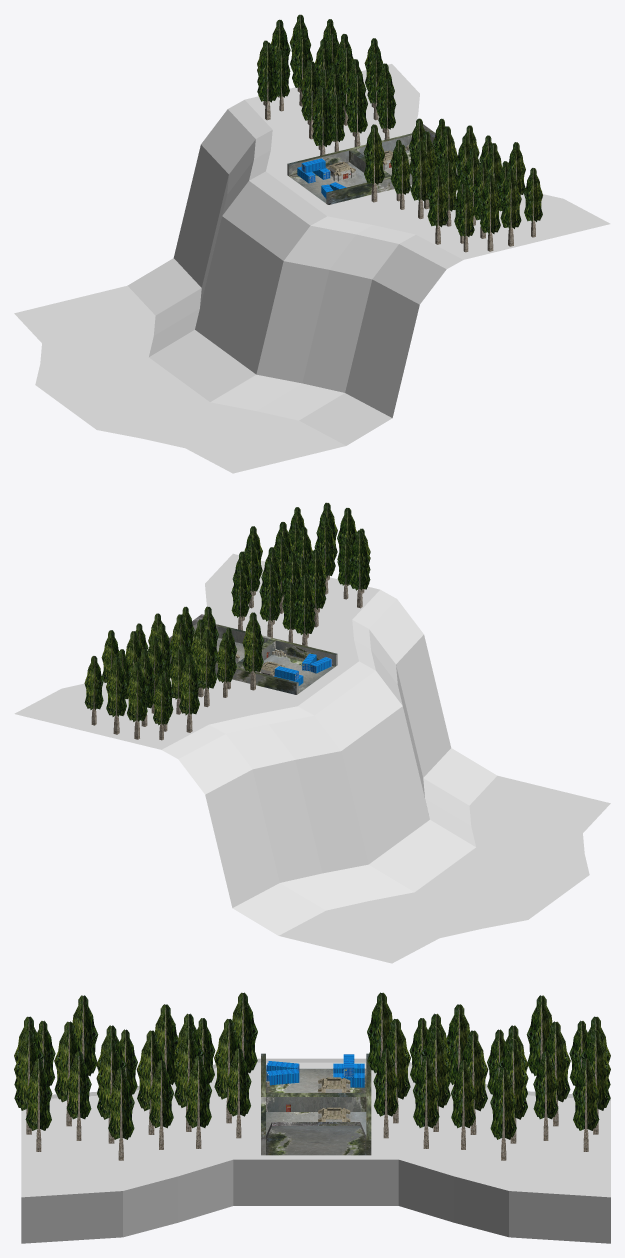
File: LV_1_Ready.fbx
3 views of the same model, one above another, from view 1: azimuth 30°, elevation 25°; view 2: azimuth 150°, elevation 25°; view 3: azimuth 270°, elevation 25° (orthographic). The views are drawn at different scales.
Parts seen in each view (by area): view 1: Ground, Tree.001, Tree, LV1_chunk, Container; view 2: Ground, Tree, Tree.001, LV1_chunk, Container; view 3: Ground, Tree, Tree.001, LV1_chunk, Container, Buildig.
Part boxes in pixels (box(x1,y1,x2,y2)): Ground: box(14, 64, 610, 473); Tree.001: box(363, 118, 542, 252); Tree: box(257, 14, 396, 155); LV1_chunk: box(287, 124, 457, 204); Container: box(297, 158, 346, 198); Ground: box(14, 553, 610, 963); Tree: box(84, 606, 263, 740); Tree.001: box(231, 502, 370, 646); LV1_chunk: box(169, 614, 337, 694); Container: box(274, 653, 331, 685); Ground: box(21, 1058, 610, 1243); Tree: box(367, 992, 610, 1160); Tree.001: box(14, 992, 257, 1160); LV1_chunk: box(261, 1053, 371, 1155); Container: box(266, 1054, 364, 1087); Buildig: box(318, 1077, 350, 1121).
Bounding box in the file's own units: 42534 × 21829 × 37501.
